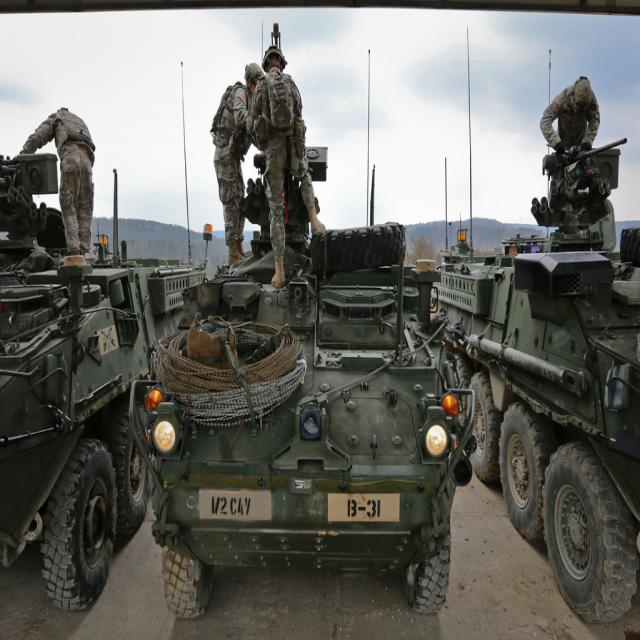tank: (128, 22, 478, 620), (431, 25, 639, 622), (0, 62, 213, 609)
